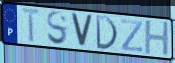D: (95, 14, 120, 52)
H: (143, 20, 170, 57)
S: (46, 10, 69, 47)
T: (21, 7, 43, 44)
V: (70, 12, 95, 49)
Z: (120, 18, 144, 53)
